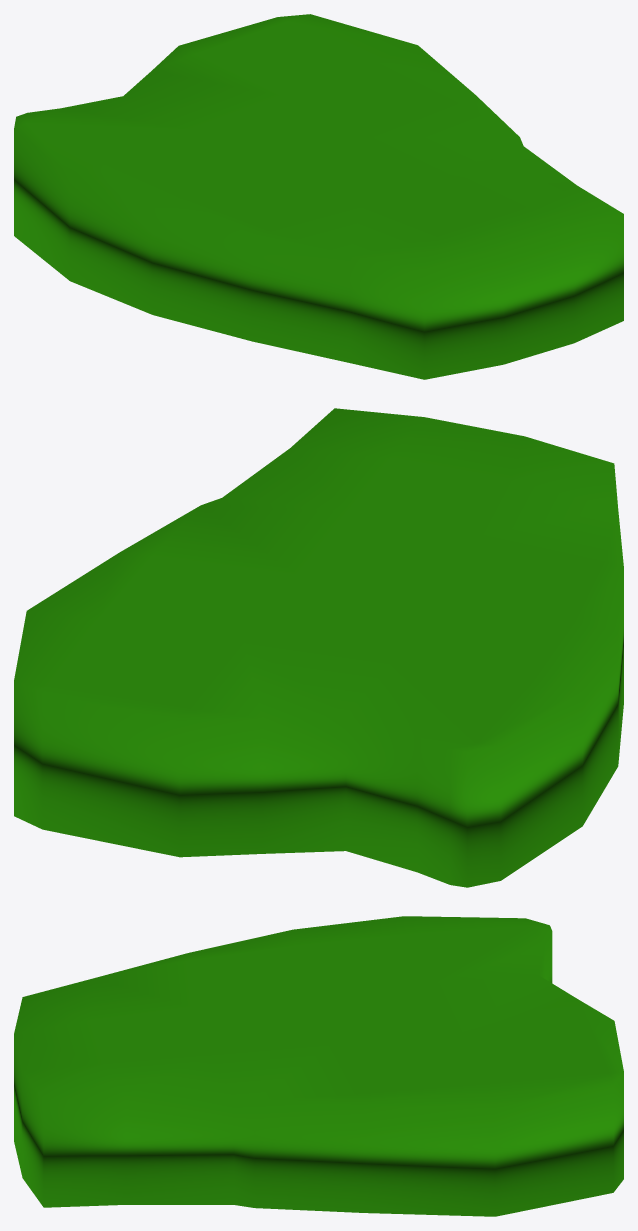
The model's file is circle_puzzle_piece_3.glb.
The picture shows the model from 3 angles, top to bottom: view 1: azimuth 30°, elevation 25°; view 2: azimuth 150°, elevation 25°; view 3: azimuth 270°, elevation 25°; orthographic projection. The views are drawn at different scales.
Parts seen in each view (by area): view 1: circle_puzzle.003; view 2: circle_puzzle.003; view 3: circle_puzzle.003.
Boxes of the visible parts, <box> form: circle_puzzle.003: <box>14,14,623,379</box>; circle_puzzle.003: <box>14,408,623,887</box>; circle_puzzle.003: <box>14,916,623,1216</box>.
Size of the model in its own units: 2.1 by 0.5465 by 2.81.
